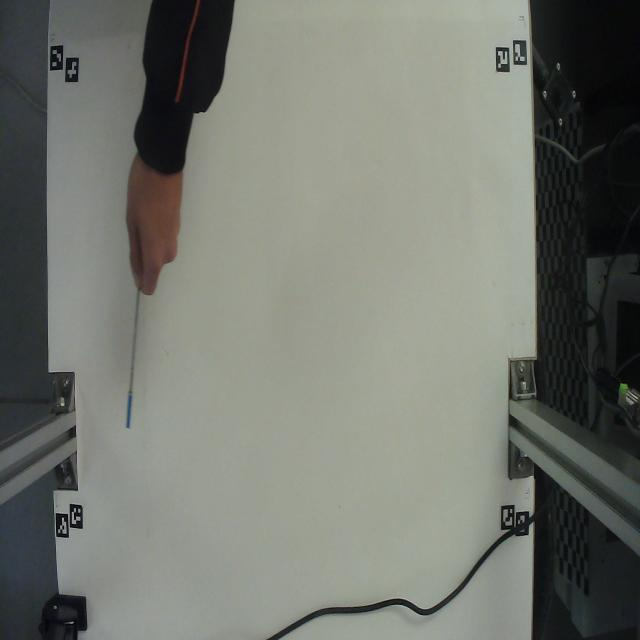NoPres: (118, 284, 144, 444)
